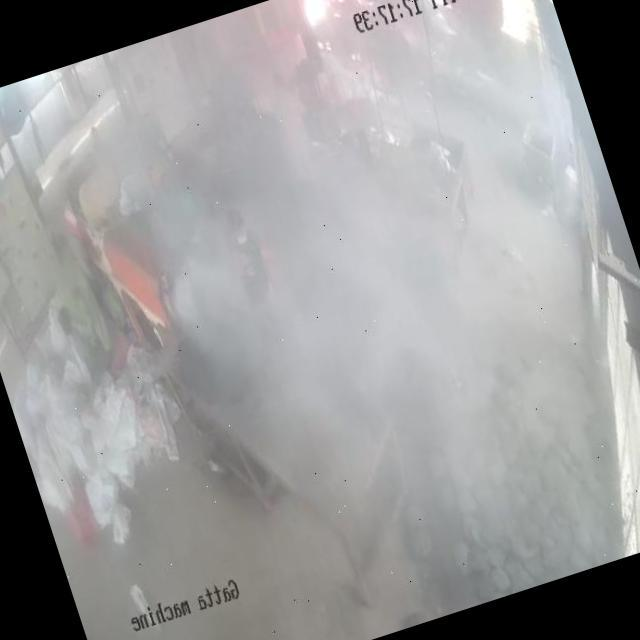person: (42, 250, 114, 364), (216, 208, 281, 320)
